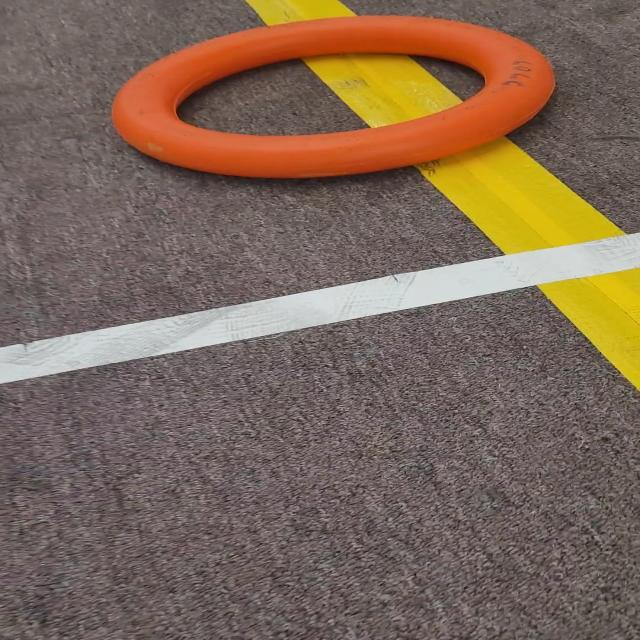note: (97, 6, 577, 186)
